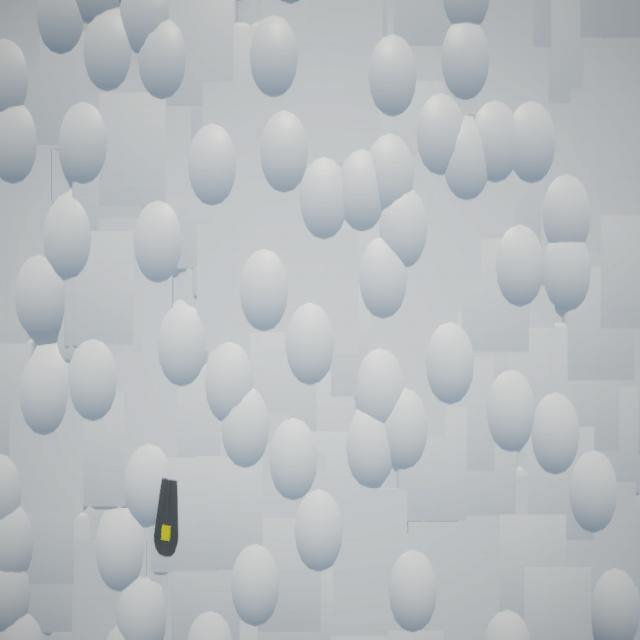handle_folk: (155, 479, 180, 559)
